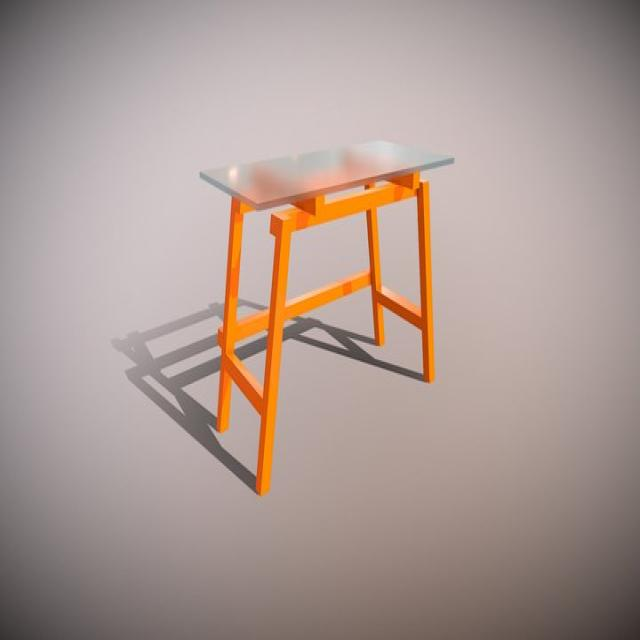table: (197, 133, 456, 500)
